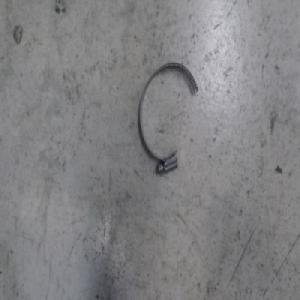AdjustableClamp: (138, 61, 200, 177)
